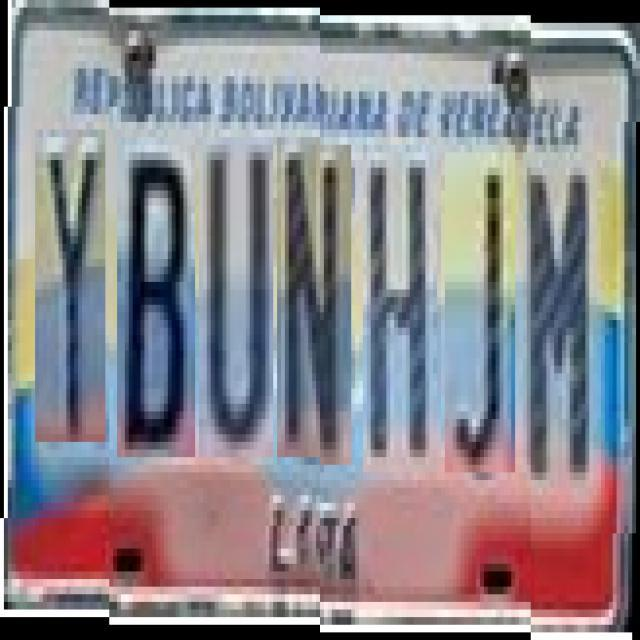B: (117, 137, 195, 457)
H: (363, 137, 437, 465)
J: (445, 145, 515, 465)
M: (523, 145, 597, 472)
N: (277, 137, 351, 457)
U: (199, 137, 273, 457)
Y: (35, 137, 105, 450)
